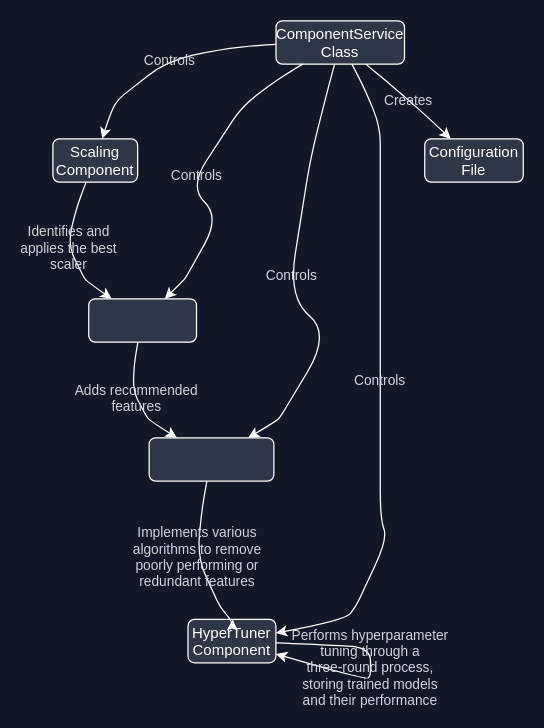
This 544x728 diagram has some shape labels left out. The centre of each missing label's shape, as x and y in pixels:
Feature Adding Component: the point at 142,320
Feature Removing Component: the point at 211,458
